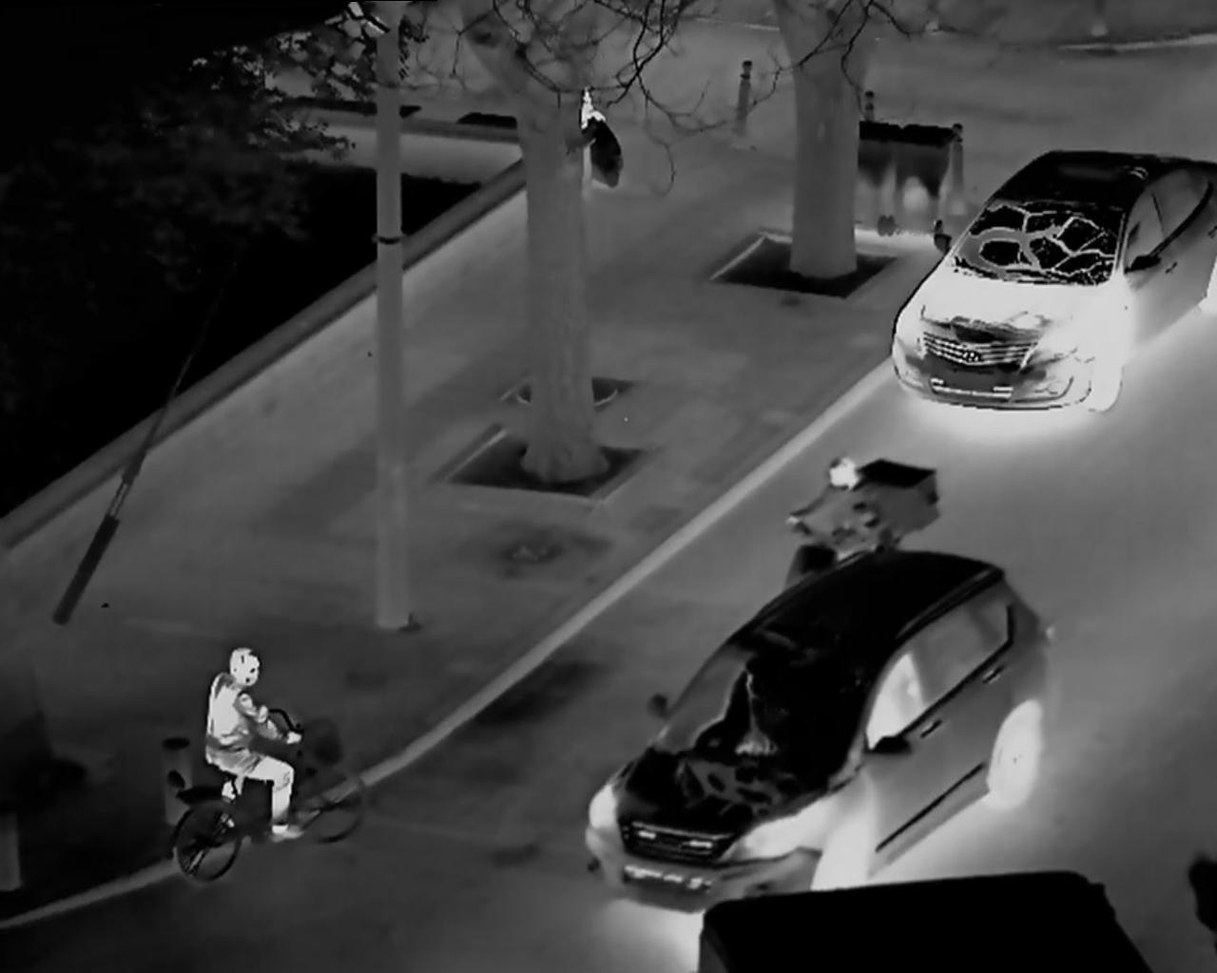person: (189, 634, 312, 869), (785, 443, 888, 564)
